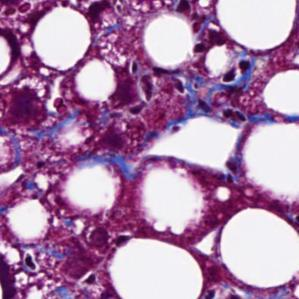inflammation: (114, 75, 186, 128), (221, 48, 260, 114)
